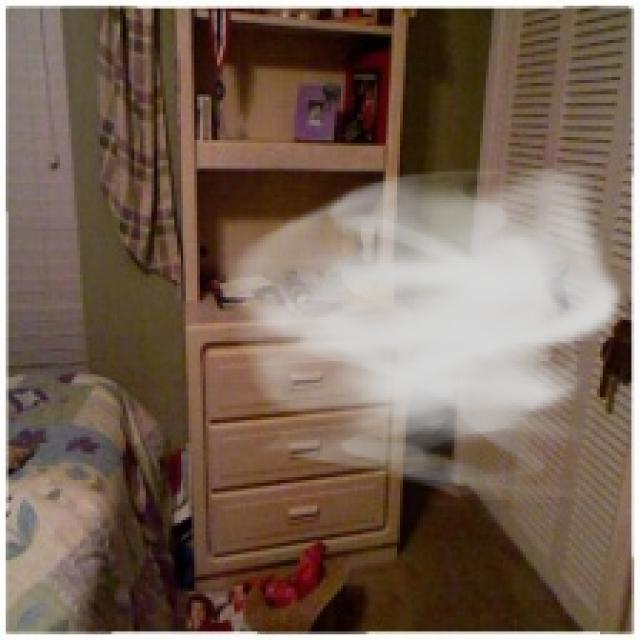smoke: (214, 157, 626, 506)
